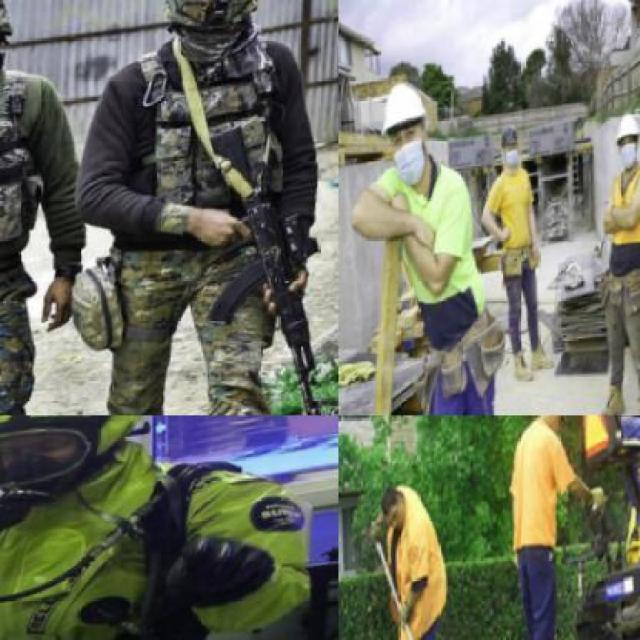Vest: (0, 444, 337, 638), (121, 26, 302, 291), (0, 57, 66, 301), (378, 514, 464, 638), (511, 417, 574, 563), (578, 415, 638, 451)
